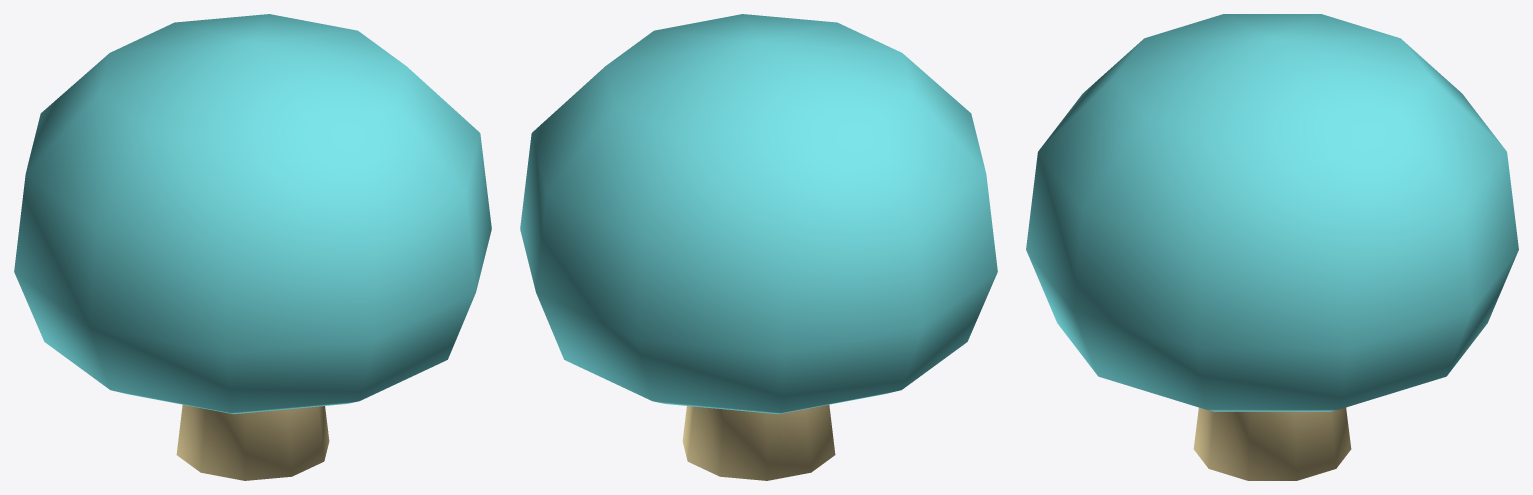
The model's file is Mushroom3_Bogdan.fbx.
3 renders of one model, left to right at view 1: azimuth 30°, elevation 25°; view 2: azimuth 150°, elevation 25°; view 3: azimuth 270°, elevation 25°, orthographic.
Visible parts, largest first — view 1: Mushroom3; view 2: Mushroom3; view 3: Mushroom3.
Part boxes in pixels (x1,y1,x2,y2): Mushroom3: (14, 14, 491, 480); Mushroom3: (520, 14, 997, 480); Mushroom3: (1026, 14, 1518, 480).
Size of the model in its own units: 72.86 by 70.23 by 76.61.
